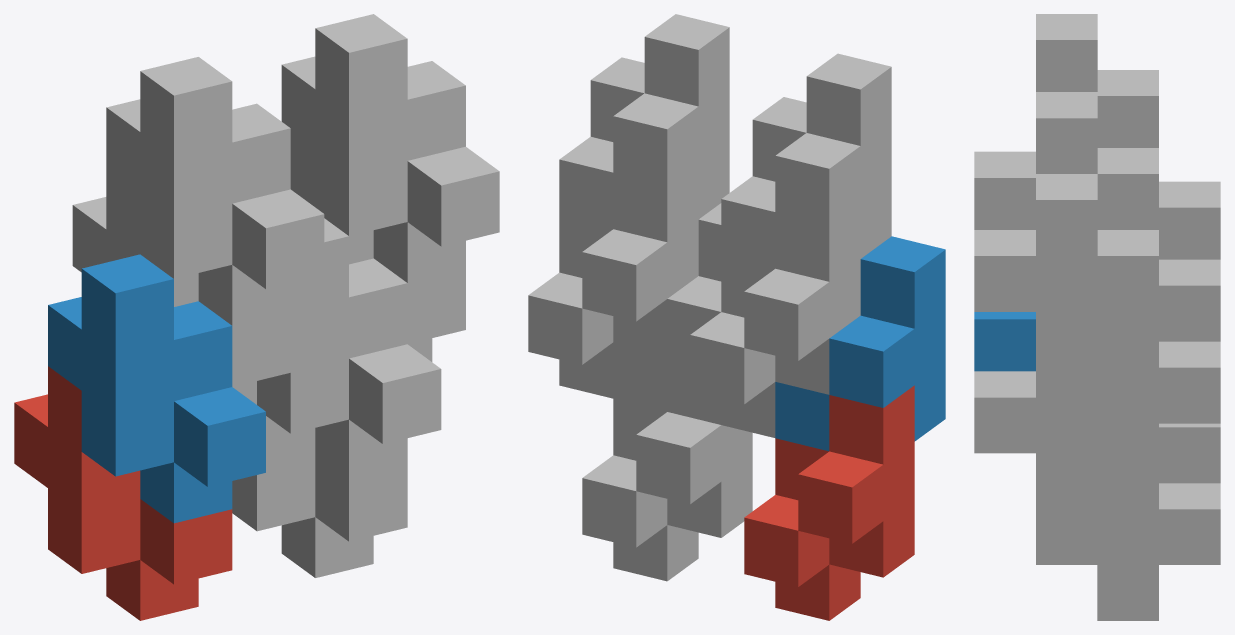
File: tiling.obj
3 renders of one model, left to right at view 1: azimuth 30°, elevation 25°; view 2: azimuth 150°, elevation 25°; view 3: azimuth 270°, elevation 25°, orthographic. The views are drawn at different scales.
Visible parts, largest first — view 1: copy_1_domain_4, copy_1_domain_2, copy_1_domain_8, copy_1_domain_6, copy_1_domain_1, copy_1_domain_5, copy_1_domain_3, copy_1_domain_7; view 2: copy_1_domain_1, copy_1_domain_7, copy_1_domain_3, copy_1_domain_5, copy_1_domain_4, copy_1_domain_8, copy_1_domain_2, copy_1_domain_6; view 3: copy_1_domain_8, copy_1_domain_7, copy_1_domain_5, copy_1_domain_4, copy_1_domain_6, copy_1_domain_3, copy_1_domain_2.
Boxes of the visible parts, left/top/right/bottom form: copy_1_domain_4: left=106, top=57, right=324, bottom=325; copy_1_domain_2: left=48, top=254, right=265, bottom=523; copy_1_domain_8: left=281, top=14, right=499, bottom=282; copy_1_domain_6: left=257, top=218, right=441, bottom=480; copy_1_domain_1: left=14, top=366, right=232, bottom=620; copy_1_domain_5: left=232, top=416, right=407, bottom=577; copy_1_domain_3: left=72, top=168, right=290, bottom=404; copy_1_domain_7: left=290, top=132, right=465, bottom=361; copy_1_domain_1: left=744, top=385, right=914, bottom=620; copy_1_domain_7: left=528, top=163, right=698, bottom=398; copy_1_domain_3: left=690, top=203, right=860, bottom=437; copy_1_domain_5: left=582, top=355, right=752, bottom=581; copy_1_domain_4: left=721, top=53, right=891, bottom=268; copy_1_domain_8: left=559, top=14, right=729, bottom=228; copy_1_domain_2: left=775, top=236, right=945, bottom=451; copy_1_domain_6: left=613, top=203, right=721, bottom=411; copy_1_domain_8: left=974, top=92, right=1158, bottom=367; copy_1_domain_7: left=1036, top=259, right=1220, bottom=479; copy_1_domain_5: left=1036, top=423, right=1220, bottom=620; copy_1_domain_4: left=974, top=14, right=1158, bottom=229; copy_1_domain_6: left=974, top=371, right=1097, bottom=509; copy_1_domain_3: left=1159, top=181, right=1220, bottom=259; copy_1_domain_2: left=974, top=312, right=1035, bottom=371.
Bounding box in the file's own units: 6 × 9 × 4.
